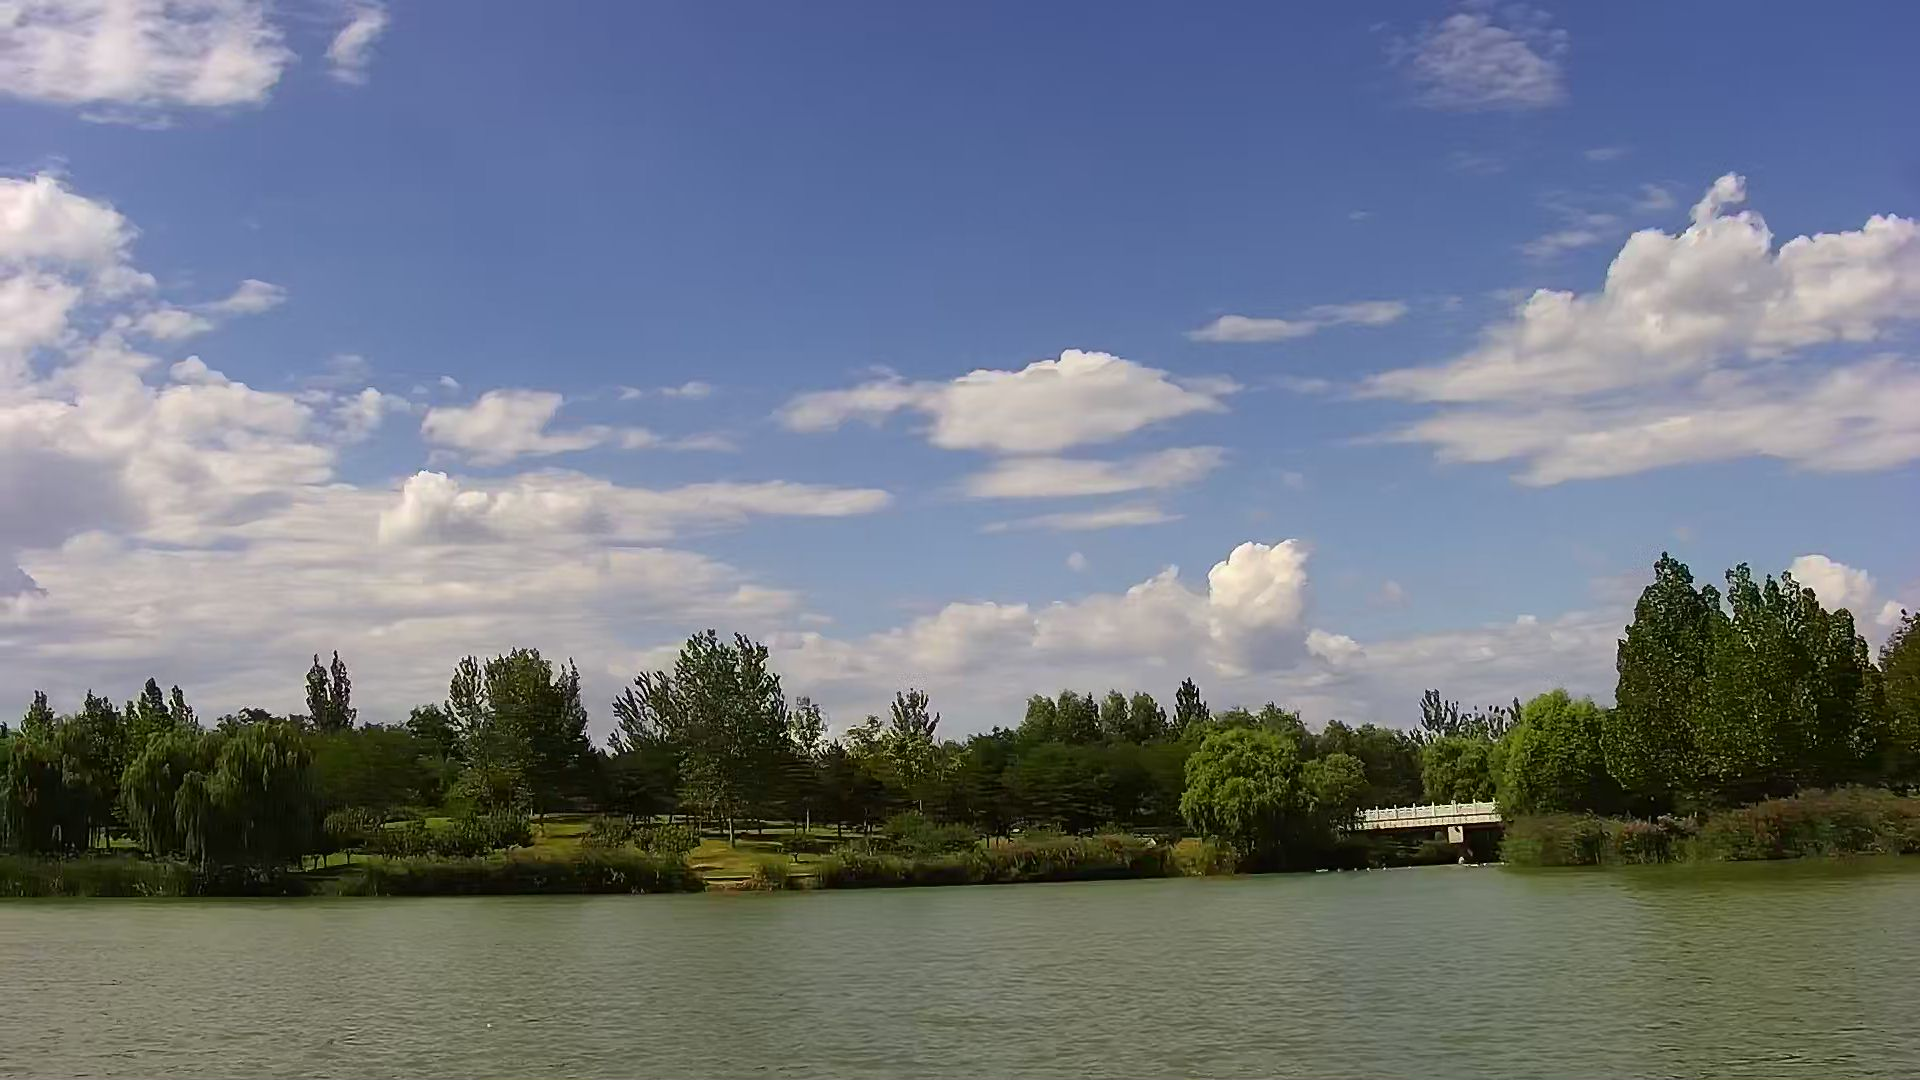bridge: (1364, 800, 1498, 865)
